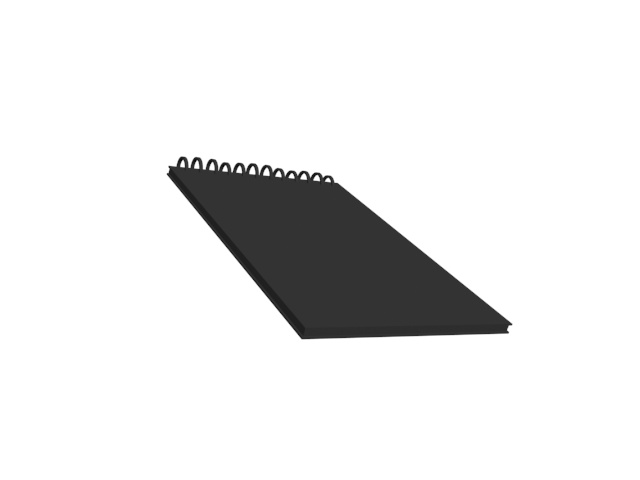paper_notebook: (161, 153, 520, 344)
